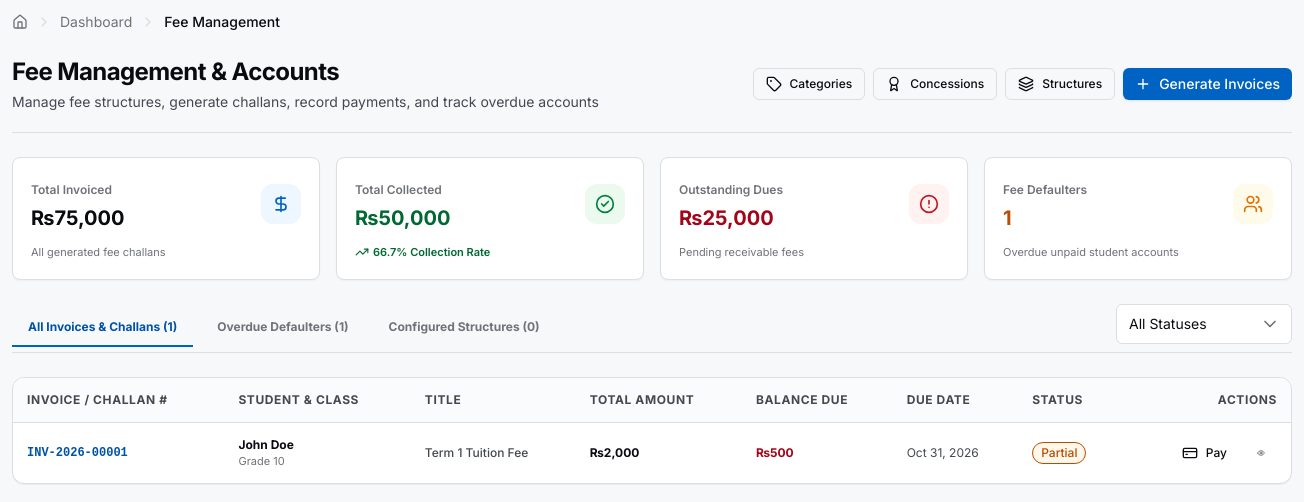
Test case: FeesDashboardPage Component › should render fees dashboard, financial cards, invoices table, and switch to defaulters tab
Expected: the heading "Fee Management & Accounts" is shown, top-left (12, 57), bottom-right (339, 86)
Expected: the heading "₨75,000" is shown, top-left (31, 204), bottom-right (124, 232)
Note: Switch to Defaulters Tab
Click the button "Overdue Defaulters (1)": (283, 328) top-left (201, 308), bottom-right (365, 346)
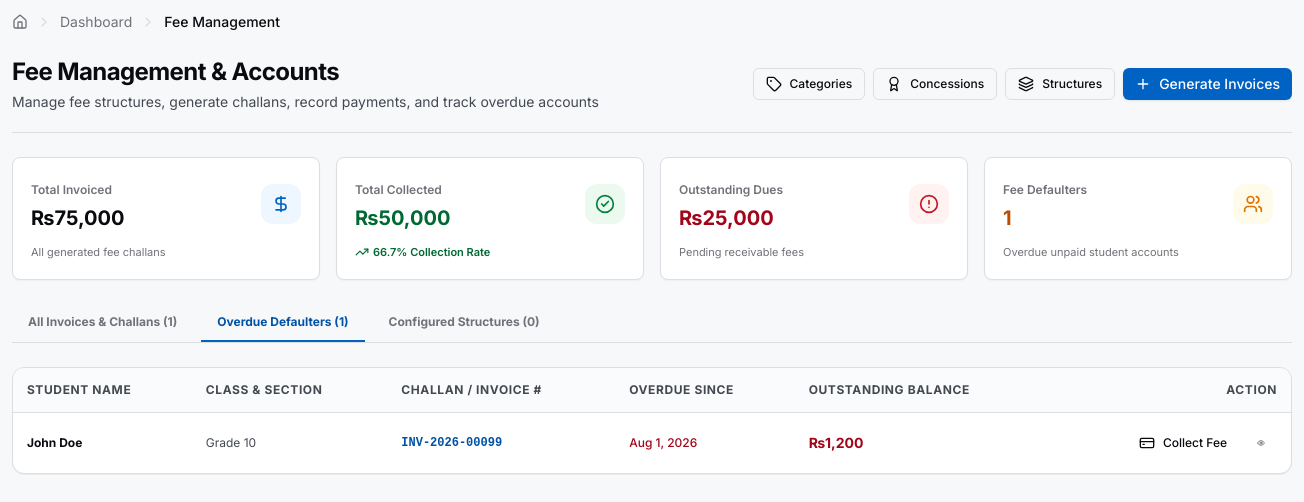
Now the link "INV-2026-00099" is shown, box top-left (401, 436), bottom-right (502, 450)
Now the text "₨1,200" is shown, box top-left (795, 412), bottom-right (1050, 472)
